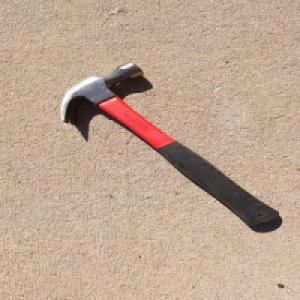Hammer: (57, 61, 282, 227)
